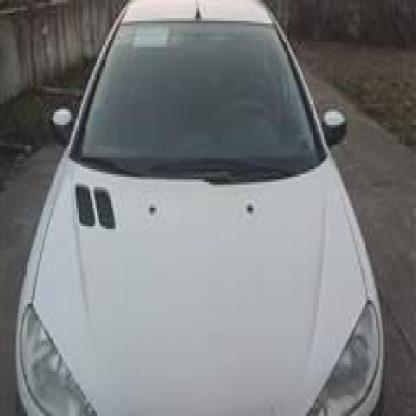car: (3, 0, 389, 414)
